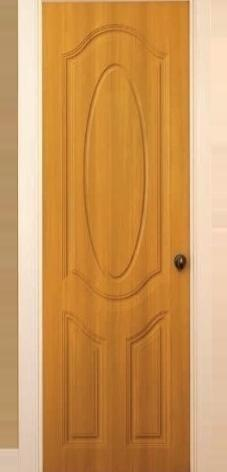door: (44, 14, 179, 472), (190, 5, 227, 471)
